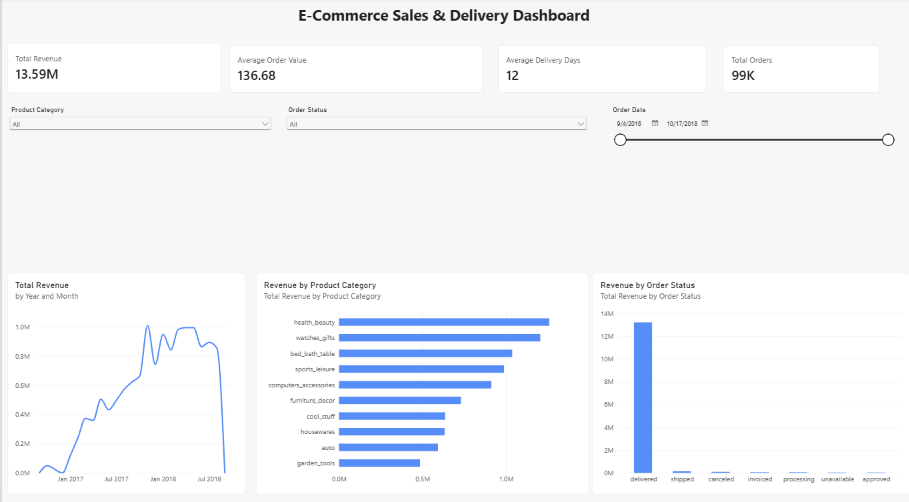

What the dashboard file says about the page in this screenshot:
{"tool":"powerbi","page":{"name":"Page 3","canvas":[1920,1080],"ordinal":2},"visuals":[{"type":"slicer","fields":{"Values":["olist_orders_dataset.order_purchase_timestamp"]},"box":[1284.8,227.2,605.9,335.4],"z":0},{"type":"slicer","fields":{"Values":["olist_orders_dataset.order_status"]},"box":[597.8,227.2,643.8,335.4],"z":1000},{"type":"slicer","fields":{"Values":["olist_products_dataset.product_category_english_correct"]},"box":[10.8,227.2,562.6,335.4],"z":2000},{"type":"cardVisual","fields":{"Data":["olist_order_items_dataset.Total Revenue"]},"box":[10.8,94.7,451.7,105.5],"z":3000},{"type":"cardVisual","fields":{"Data":["olist_order_items_dataset.average order value"]},"box":[481.5,100.1,535.6,100.1],"z":4000},{"type":"cardVisual","fields":{"Data":["olist_order_items_dataset.Average Delivery Days"]},"box":[1049.5,100.1,440,100],"z":5000},{"type":"cardVisual","fields":{"Data":["olist_order_items_dataset.Total Orders"]},"box":[1525.6,100.1,330,100.1],"z":6000},{"type":"lineChart","fields":{"Category":["olist_orders_dataset.order_purchase_timestamp.Variation.Date Hierarchy.Year","olist_orders_dataset.order_purchase_timestamp.Variation.Date Hierarchy.Month"],"Y":["olist_order_items_dataset.Total Revenue"]},"box":[10.8,581.6,503.1,467.9],"z":7000},{"type":"clusteredBarChart","title":"Revenue by Product Category","fields":{"Category":["olist_products_dataset.product_category_english_correct"],"Y":["olist_order_items_dataset.Total Revenue"]},"box":[538.3,581.6,703.3,467.9],"z":8000},{"type":"clusteredColumnChart","title":"Revenue by Order Status","fields":{"Category":["olist_orders_dataset.order_status"],"Y":["olist_order_items_dataset.Total Revenue"]},"box":[1249.7,581.6,670.8,467.9],"z":9000},{"type":"textbox","box":[0,930,463,150],"z":10000},{"type":"textbox","box":[482,930,703,150],"z":11000},{"type":"textbox","box":[597.8,13.5,673.3,126.7],"z":12000}]}

Visuals, with their boxes in screenshot pixels (x1, y1, x2, y2), scaled from the page's 1920x1080 canvas onto the 909x502 screenshot:
slicer - olist_orders_dataset.order_purchase_timestamp: (x1=608, y1=106, x2=895, y2=262)
slicer - olist_orders_dataset.order_status: (x1=283, y1=106, x2=588, y2=262)
slicer - olist_products_dataset.product_category_english_correct: (x1=5, y1=106, x2=271, y2=262)
cardVisual - olist_order_items_dataset.Total Revenue: (x1=5, y1=44, x2=219, y2=93)
cardVisual - olist_order_items_dataset.average order value: (x1=228, y1=47, x2=482, y2=93)
cardVisual - olist_order_items_dataset.Average Delivery Days: (x1=497, y1=47, x2=705, y2=93)
cardVisual - olist_order_items_dataset.Total Orders: (x1=722, y1=47, x2=879, y2=93)
lineChart - olist_orders_dataset.order_purchase_timestamp.Variation.Date Hierarchy.Year x olist_orders_dataset.order_purchase_timestamp.Variation.Date Hierarchy.Month: (x1=5, y1=270, x2=243, y2=488)
"Revenue by Product Category" clusteredBarChart: (x1=255, y1=270, x2=588, y2=488)
"Revenue by Order Status" clusteredColumnChart: (x1=592, y1=270, x2=908, y2=488)
textbox: (x1=0, y1=432, x2=219, y2=501)
textbox: (x1=228, y1=432, x2=561, y2=501)
textbox: (x1=283, y1=6, x2=602, y2=65)
